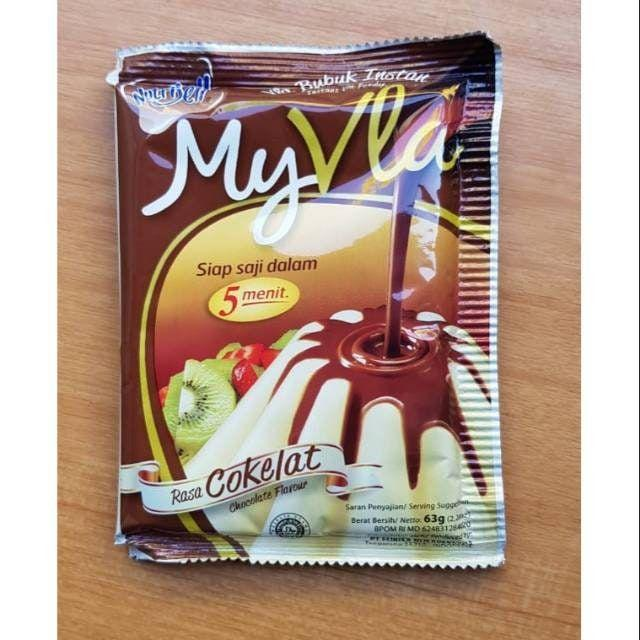KemasanPlastik: (108, 32, 505, 569)
